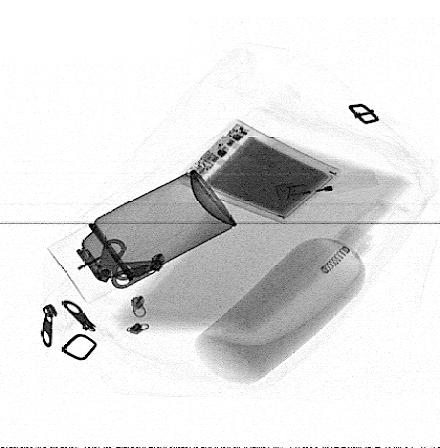Lighter: (275, 169, 379, 203)
Powerbank: (178, 118, 339, 223)
Sprayer: (47, 170, 237, 304)
